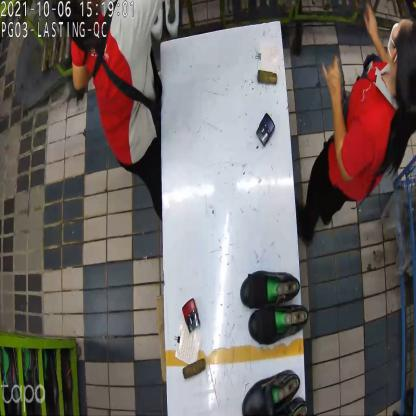shoes: (239, 271, 311, 344), (241, 370, 309, 416)
stamp: (256, 111, 275, 148), (184, 296, 202, 335)
